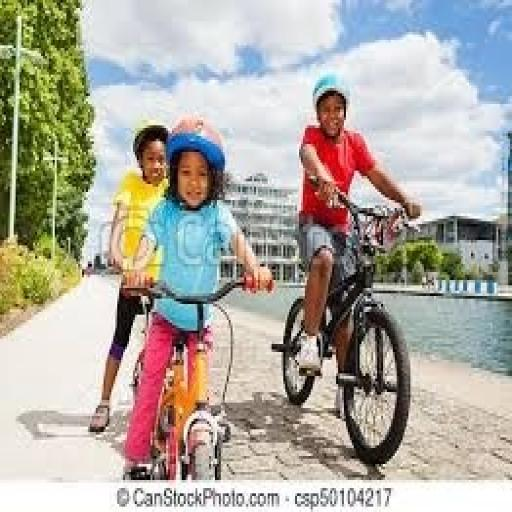cycling: (117, 115, 276, 480), (293, 69, 424, 419), (86, 118, 172, 438)
